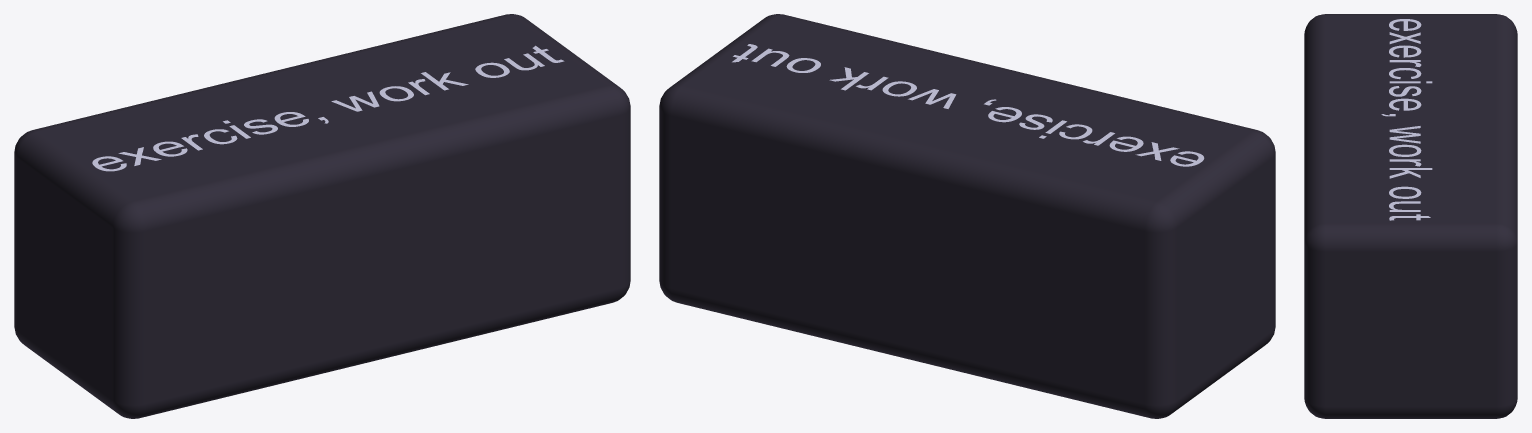
The model's file is exercise.glb.
The picture shows the model from 3 angles, left to right: view 1: azimuth 30°, elevation 25°; view 2: azimuth 150°, elevation 25°; view 3: azimuth 270°, elevation 25°; orthographic projection. The views are drawn at different scales.
Visible parts, largest first — view 1: Cut, Extrude; view 2: Cut, Extrude; view 3: Cut, Extrude.
Part boxes in pixels (box(x1,y1,x2,y2)): Cut: box(14, 14, 630, 418); Extrude: box(92, 45, 564, 171); Cut: box(659, 14, 1275, 418); Extrude: box(732, 44, 1204, 166); Cut: box(1304, 14, 1517, 418); Extrude: box(1381, 19, 1432, 220).
Bounding box in the file's own units: 5 × 2 × 2.
